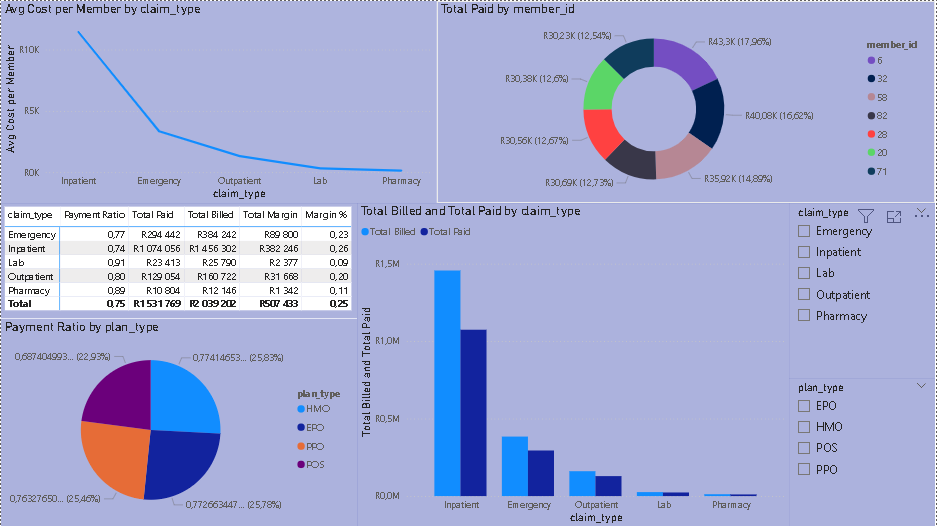

What the dashboard file says about the page in this screenshot:
{"tool":"powerbi","page":{"name":"Page 1","canvas":[1280,720],"ordinal":0},"visuals":[{"type":"lineChart","fields":{"Category":["health claims.claim_type"],"Y":["health members.Avg Cost per Member"]},"box":[0,0,597.3,276.7],"z":0},{"type":"clusteredColumnChart","fields":{"Category":["health claims.claim_type"],"Y":["health members.Total Billed","health members.Total Paid"]},"box":[487.7,276.7,591.8,443.8],"z":2000},{"type":"donutChart","fields":{"Category":["health claims.member_id"],"Y":["health members.Total Paid"]},"box":[597.3,0,682.2,276.7],"z":3000},{"type":"slicer","fields":{"Values":["health claims.claim_type"]},"box":[1079.5,276.7,200,239.7],"z":4000},{"type":"slicer","fields":{"Values":["health members.plan_type"]},"box":[1079.5,516.4,200,204.1],"z":5000},{"type":"pivotTable","fields":{"Rows":["Merge Claims.claim_type"],"Values":["health members.Payment Ratio","health members.Total Paid","health members.Total Billed","Merge Claims.Total Margin","Merge Claims.Margin %"]},"box":[0,276.7,487.7,157.5],"z":5001},{"type":"pieChart","fields":{"Y":["health members.Payment Ratio"],"Category":["health members.plan_type"]},"box":[0,435,488,285],"z":5002}]}

Visuals, with their boxes in screenshot pixels (x1, y1, x2, y2), scaled from the page's 1280x720 canvas onto the 937x526 screenshot:
lineChart - health claims.claim_type x health members.Avg Cost per Member: (x1=0, y1=0, x2=437, y2=202)
clusteredColumnChart - health claims.claim_type x health members.Total Billed: (x1=357, y1=202, x2=790, y2=525)
donutChart - health claims.member_id x health members.Total Paid: (x1=437, y1=0, x2=936, y2=202)
slicer - health claims.claim_type: (x1=790, y1=202, x2=936, y2=377)
slicer - health members.plan_type: (x1=790, y1=377, x2=936, y2=525)
pivotTable - Merge Claims.claim_type x health members.Payment Ratio: (x1=0, y1=202, x2=357, y2=317)
pieChart - health members.Payment Ratio x health members.plan_type: (x1=0, y1=318, x2=357, y2=525)
